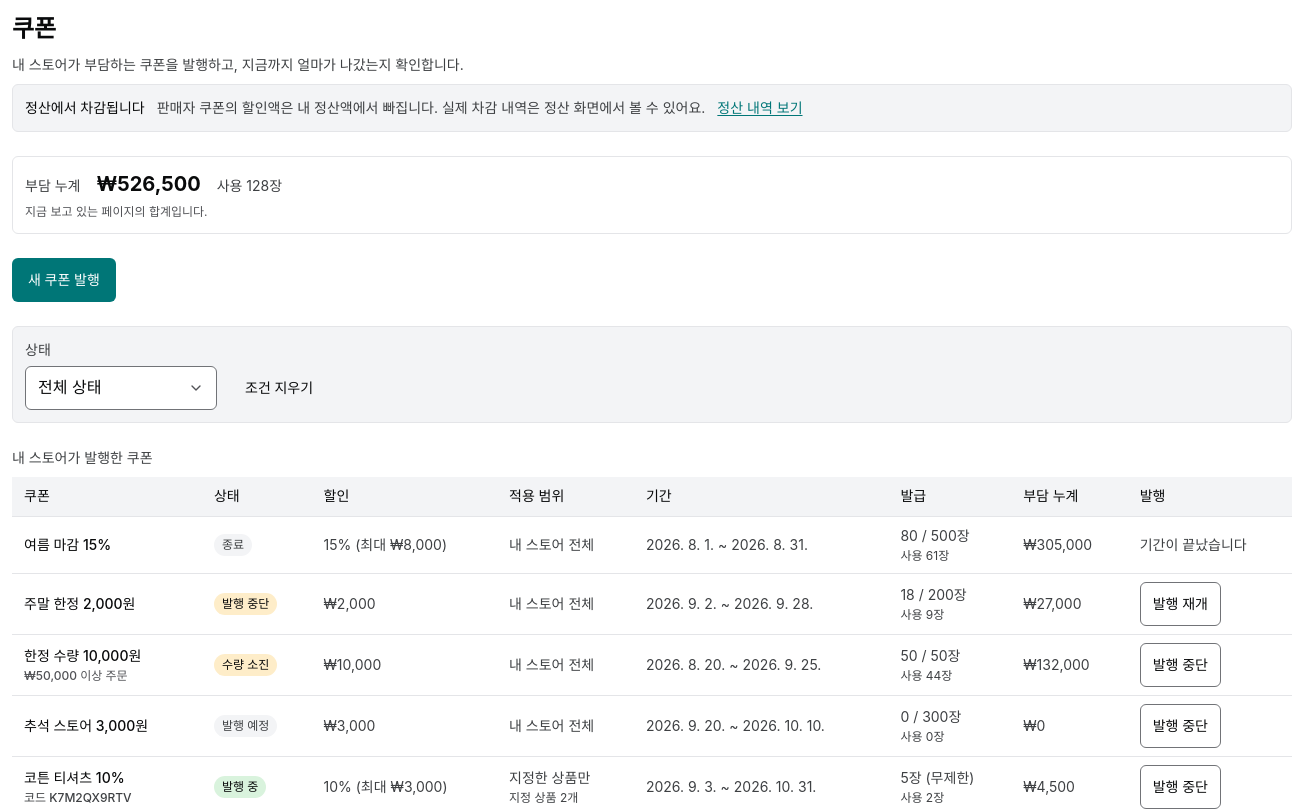
Test: F3 — 예상 부담액 › says an unlimited issue count has no bounded maximum either
Click the button "새 쿠폰 발행": (64, 280) [12,258,116,302]
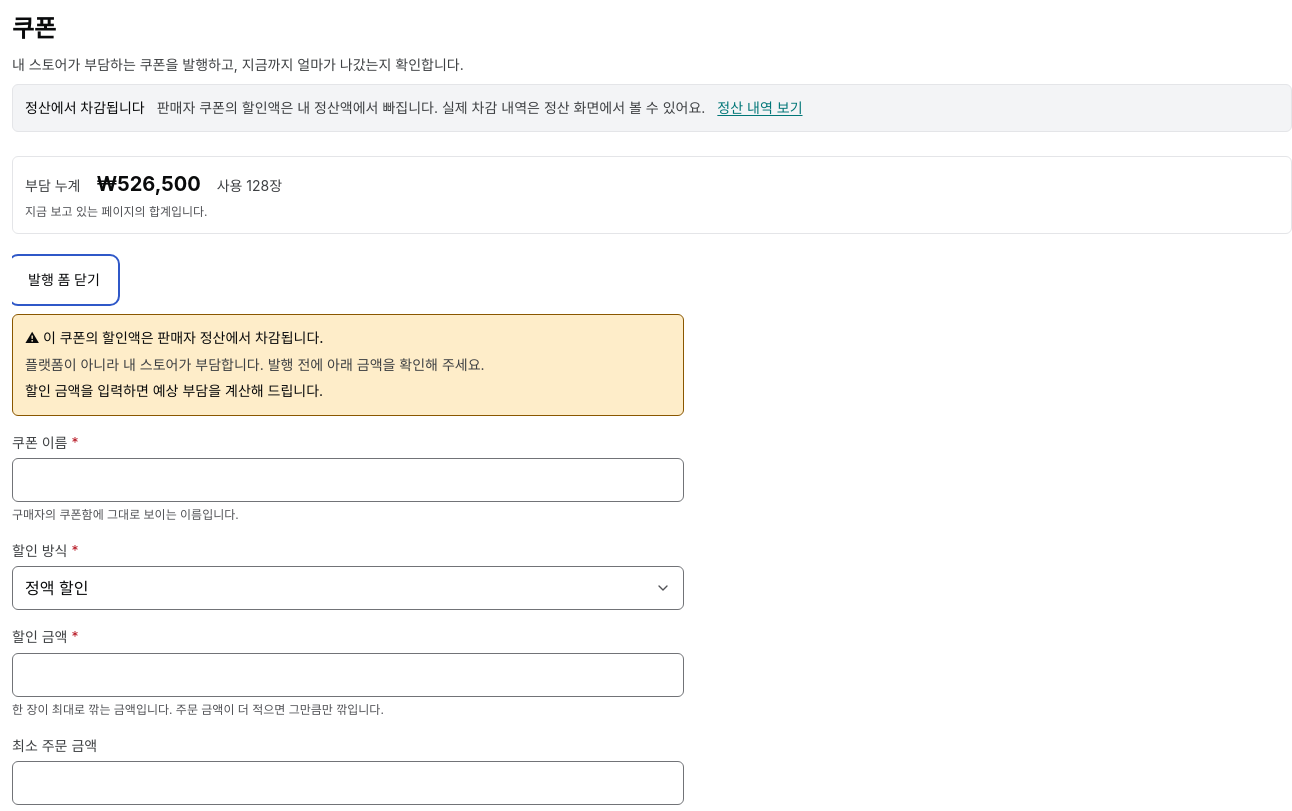
In the number field labelled "할인 금액 *": (348, 675) [12,653,684,697], type "5000"
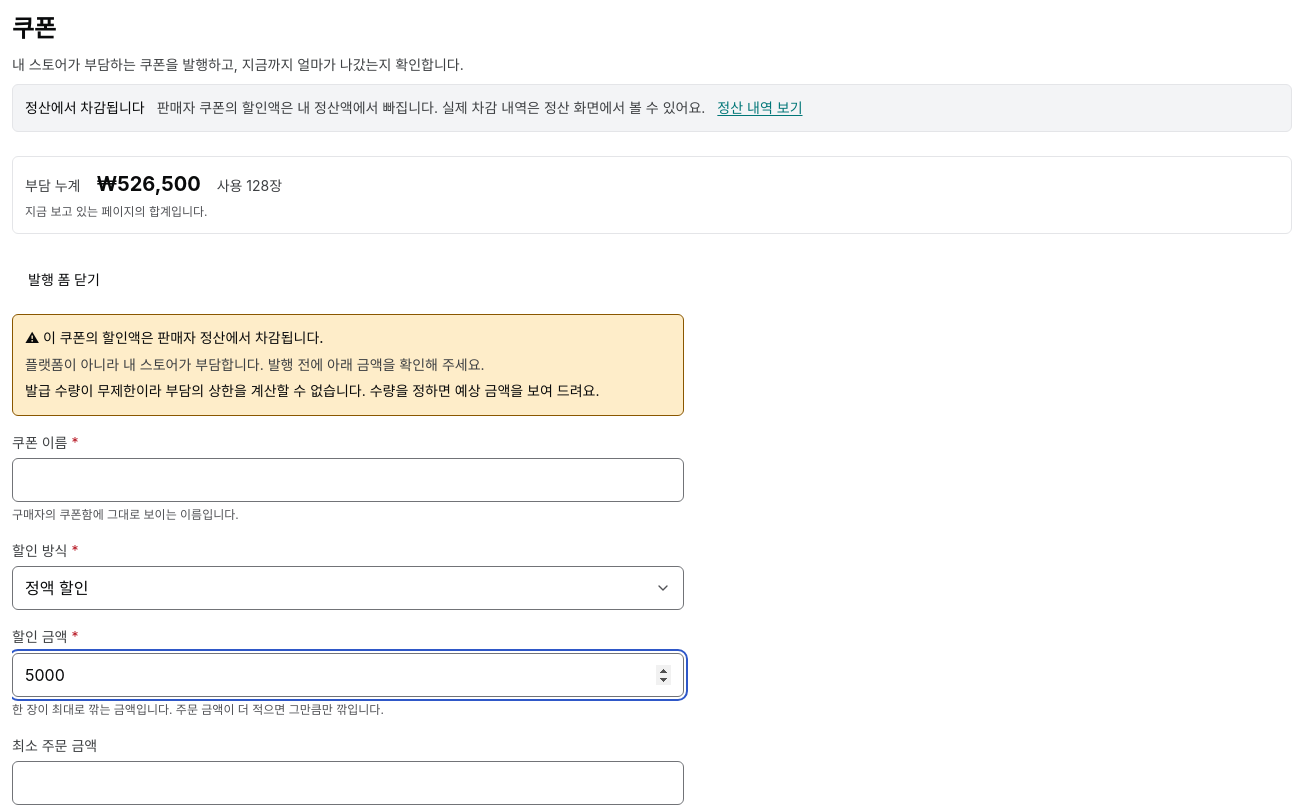
Expected: the text "발급 수량이 무제한이라 부담의 상한을 계산할 수 없습니다. 수량을 정하면 예상 금액을 보여 드려요." is shown, [25,380,671,403]
